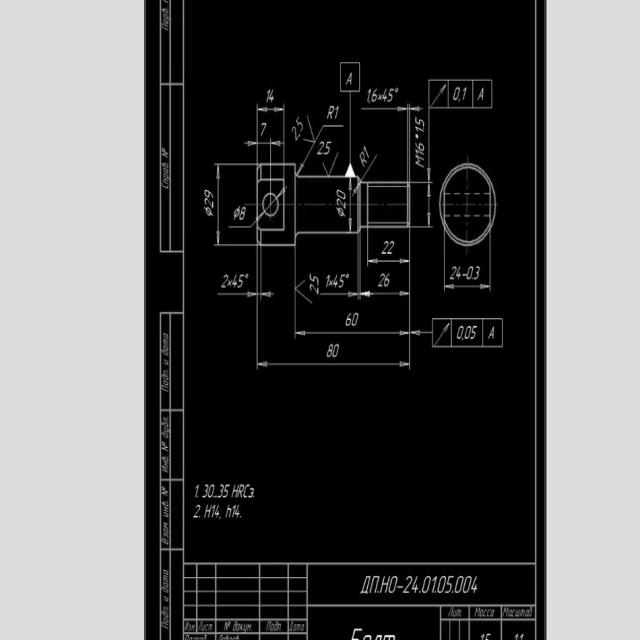marking_line: (256, 245, 411, 369), (299, 281, 416, 374), (359, 234, 412, 303), (214, 163, 255, 247), (216, 246, 274, 297), (320, 233, 359, 300), (442, 246, 492, 292), (256, 104, 287, 164), (365, 228, 412, 266), (410, 181, 433, 229), (244, 140, 283, 163), (298, 146, 315, 175), (361, 106, 423, 112), (431, 84, 447, 107), (435, 323, 450, 346), (349, 177, 352, 232), (412, 330, 433, 337)
numeric: (437, 575, 446, 593), (463, 574, 471, 594), (423, 576, 432, 593), (403, 576, 411, 595), (455, 576, 463, 595), (445, 576, 454, 592), (290, 126, 300, 140), (221, 272, 229, 289), (325, 105, 334, 120), (296, 116, 304, 132), (238, 204, 246, 220), (332, 343, 340, 358), (388, 240, 396, 255), (237, 273, 245, 288), (471, 576, 478, 593), (415, 155, 424, 168), (432, 574, 438, 593), (466, 265, 474, 279), (487, 326, 495, 340), (359, 153, 367, 167), (388, 87, 395, 103), (203, 198, 214, 208), (204, 188, 214, 199), (309, 273, 319, 284), (310, 283, 319, 295), (413, 575, 419, 593), (326, 343, 333, 358), (352, 311, 359, 326), (202, 483, 209, 498), (237, 483, 244, 498), (470, 326, 478, 339), (193, 505, 201, 518), (416, 117, 426, 127), (336, 198, 346, 208), (337, 189, 346, 200), (344, 313, 351, 327), (378, 273, 385, 287), (339, 274, 346, 288), (457, 326, 464, 340), (478, 87, 485, 101), (453, 86, 460, 100), (225, 505, 232, 519), (208, 484, 215, 498), (364, 147, 372, 159), (325, 142, 332, 155), (381, 240, 387, 255), (464, 325, 470, 340), (462, 86, 468, 101), (415, 141, 424, 151), (318, 141, 324, 156), (215, 505, 221, 520), (372, 89, 378, 103), (261, 122, 267, 136), (244, 484, 250, 498), (204, 504, 210, 518), (218, 483, 224, 497), (224, 484, 230, 498), (232, 484, 238, 498), (415, 126, 425, 134), (346, 72, 352, 85), (385, 273, 390, 288), (450, 265, 455, 280), (325, 275, 331, 287), (474, 266, 480, 278), (269, 89, 274, 103), (456, 265, 461, 279), (366, 88, 371, 102), (233, 274, 238, 288), (248, 488, 255, 498), (235, 504, 240, 518), (334, 106, 339, 119), (194, 484, 199, 497), (415, 150, 424, 157), (266, 88, 270, 103), (333, 273, 337, 288), (211, 504, 215, 519), (231, 505, 236, 517), (383, 89, 387, 103)
special_symbol: (323, 153, 338, 175), (304, 115, 315, 144), (296, 277, 307, 303), (204, 205, 213, 218), (336, 207, 346, 217), (233, 205, 240, 219), (377, 94, 383, 101), (228, 279, 232, 287), (395, 87, 399, 93), (245, 273, 249, 279), (418, 588, 421, 594), (451, 590, 455, 594), (347, 273, 350, 278), (434, 590, 436, 593)
